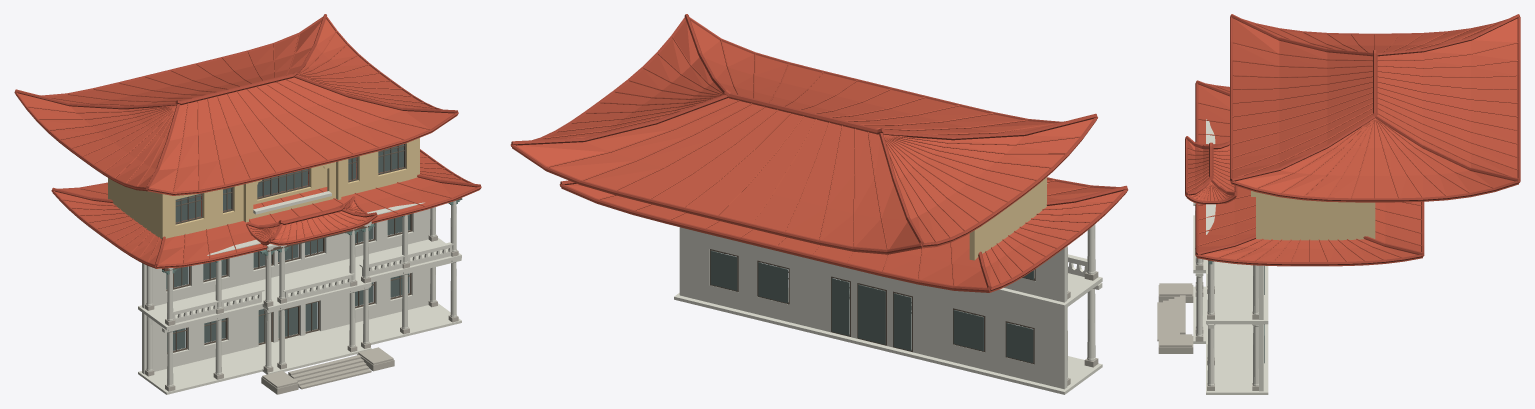
The model's file is lod-source.glb.
3 views of the same model, side by side, from view 1: azimuth 30°, elevation 25°; view 2: azimuth 150°, elevation 25°; view 3: azimuth 270°, elevation 25° (orthographic). The views are drawn at different scales.
Parts seen in each view (by area): view 1: 新华路200号陈果夫住宅南面重檐外廊; view 2: 新华路200号陈果夫住宅南面重檐外廊; view 3: 新华路200号陈果夫住宅南面重檐外廊.
Part boxes in pixels (x1,y1,x2,y2): 新华路200号陈果夫住宅南面重檐外廊: (14,14,481,394); 新华路200号陈果夫住宅南面重檐外廊: (510,14,1128,394); 新华路200号陈果夫住宅南面重檐外廊: (1157,14,1520,394).
Size of the model in its own units: 24.64 by 15.99 by 21.79.
